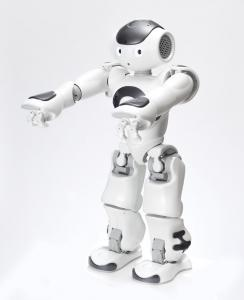nao: (16, 16, 225, 294)
